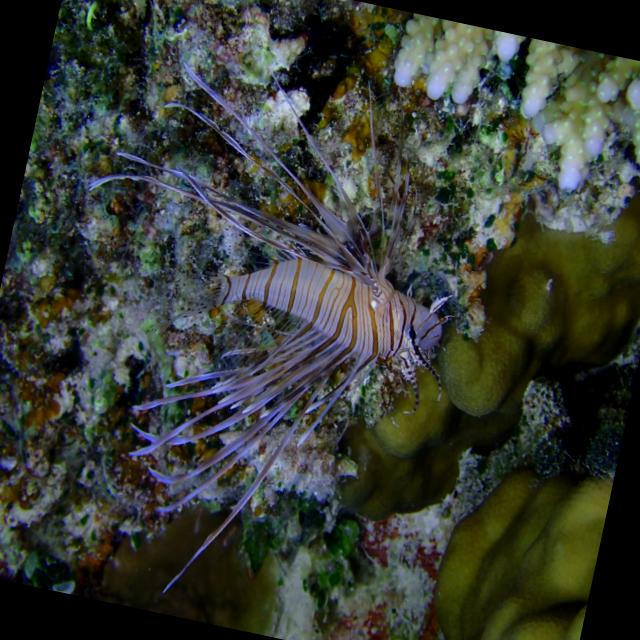Aslan Baligi: (6, 28, 505, 640)
